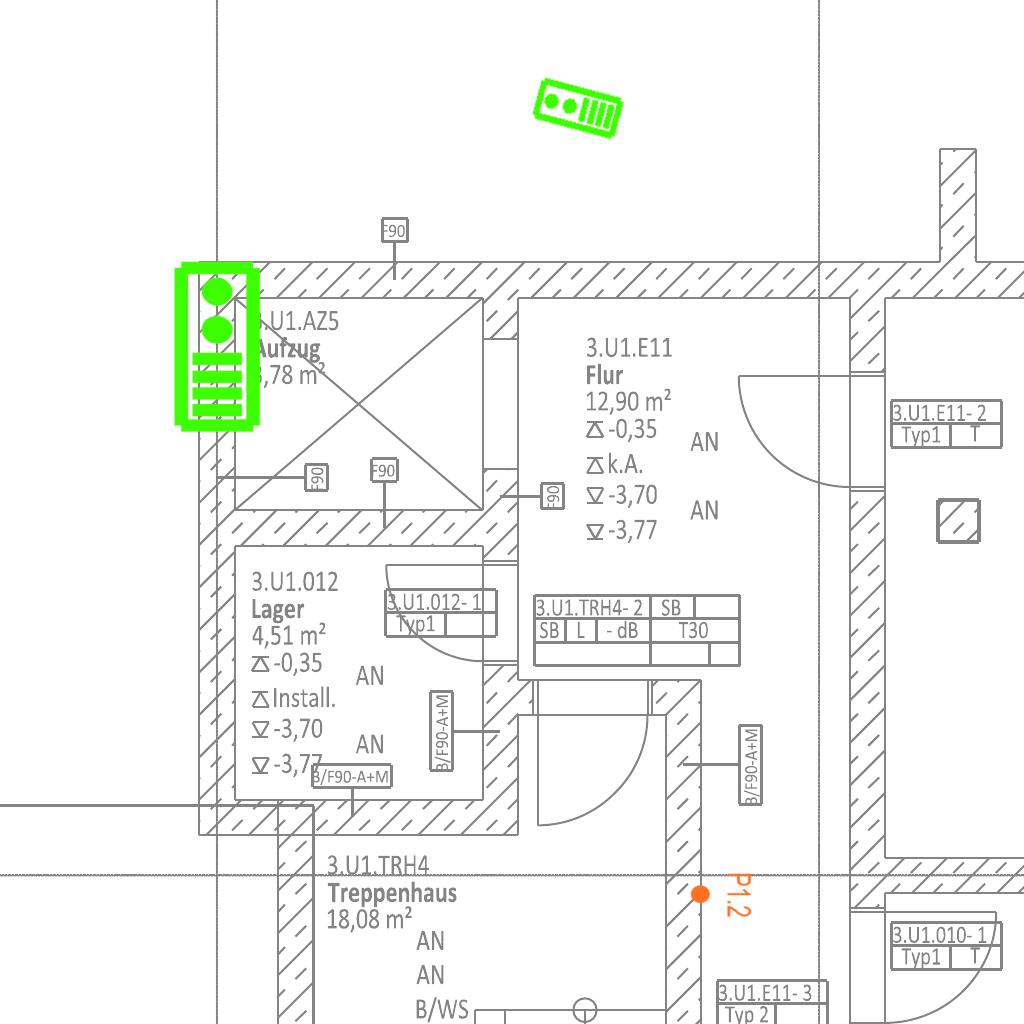Downlight_LED_Einbauleuchten_Flur: (689, 872, 753, 918)
Gegensprechanlage_mit_Video: (168, 258, 263, 434), (528, 74, 627, 144)
